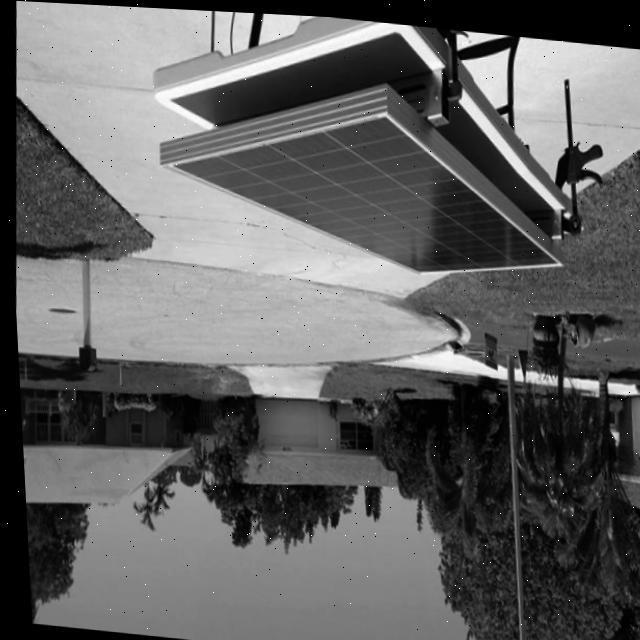Normal Solar Panel: (152, 88, 568, 284)
